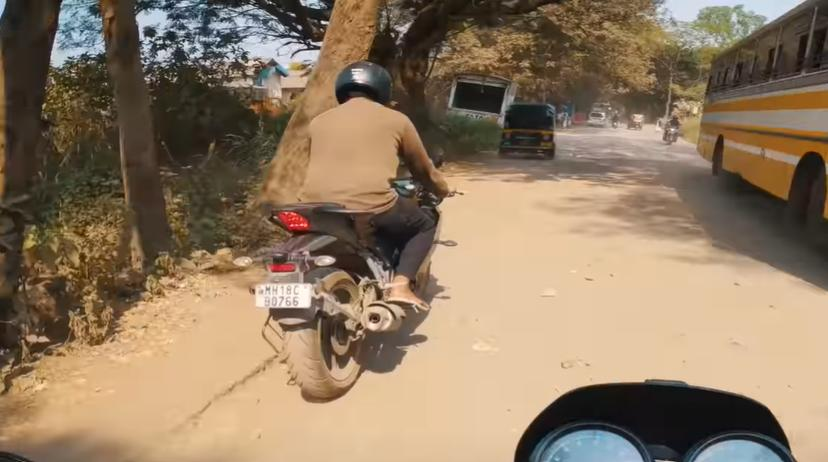rear: (259, 192, 368, 404)
